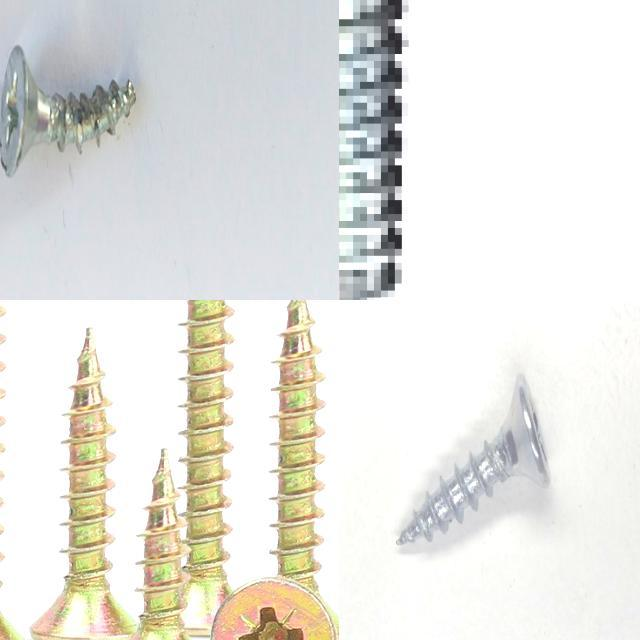Screw: (30, 328, 137, 640), (397, 373, 551, 544), (339, 0, 407, 300), (0, 45, 136, 176), (181, 300, 234, 636), (273, 300, 327, 595), (131, 449, 191, 640), (203, 574, 339, 640)
